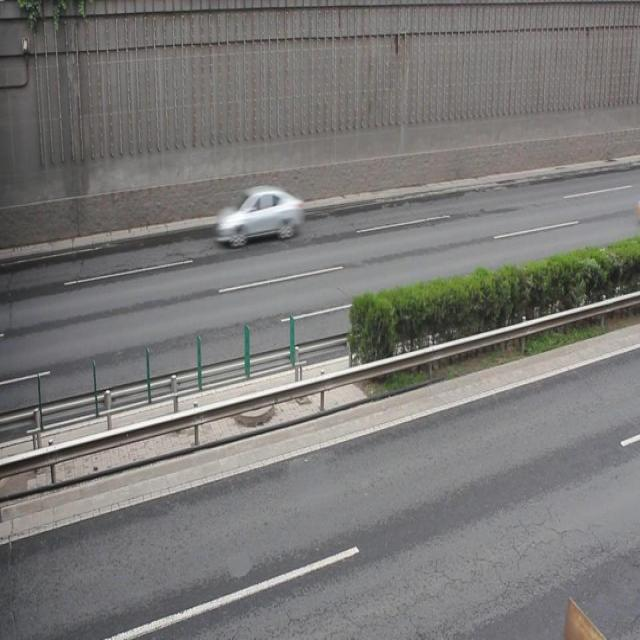car: (215, 184, 302, 244)
